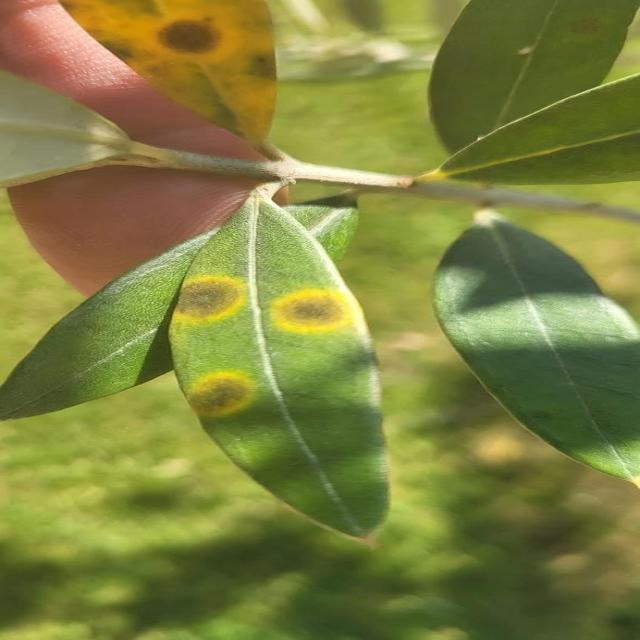Peacock Eye: (169, 198, 389, 538), (58, 0, 278, 159)
